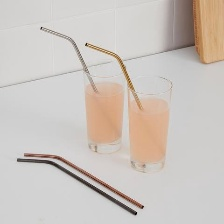drinking_straw: (14, 148, 146, 217), (35, 22, 101, 96), (82, 38, 143, 115)
glass: (121, 71, 176, 176), (77, 59, 128, 156)
